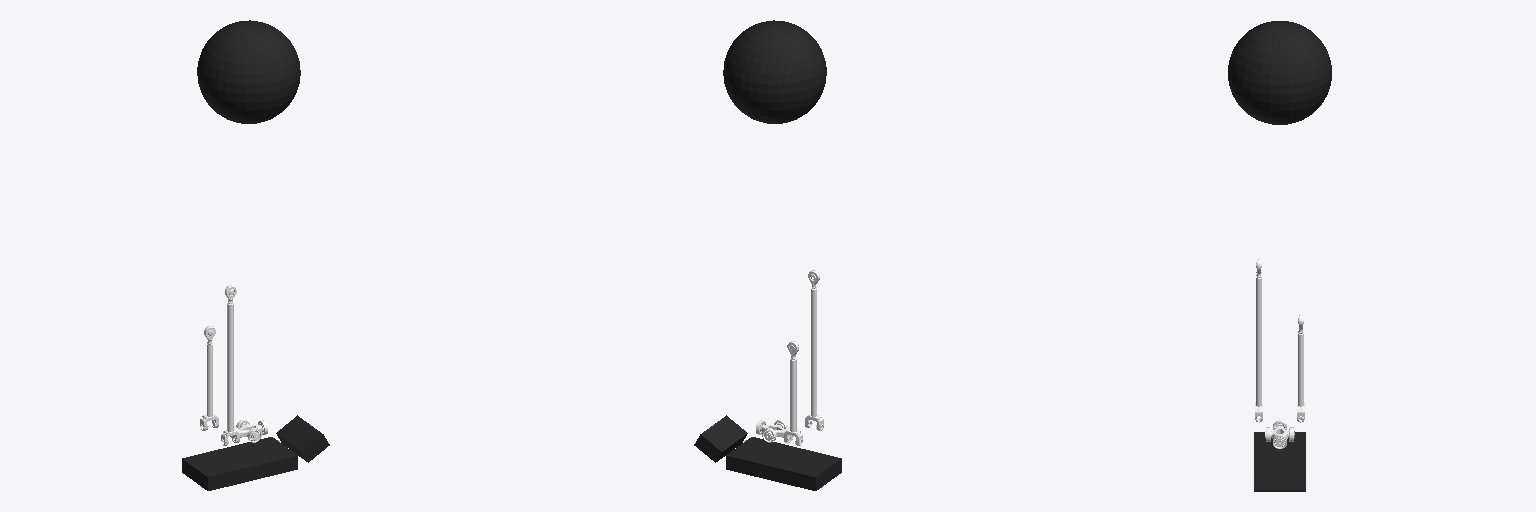
URDF robot description (DHAL):
<robot name="DHAL" xmlns:xacro="http://www.ros.org/wiki/xacro">
    <!--
      CALIBRATION WORKING COPY (2026-09-08) (NOT FINAL).
      Confirmed data are applied as they are validated. Provisional assumptions are
      marked locally. The uploaded Hop2_Parallel_20260820.zip remains untouched.
    -->
    <material name="black">
        <color rgba="0.0 0.0 0.0 1.0"/>
    </material>
    <material name="blue">
        <color rgba="0.0 0.0 0.8 1.0"/>
    </material>
    <material name="green">
        <color rgba="0.0 0.8 0.0 1.0"/>
    </material>
    <material name="grey">
        <color rgba="0.2 0.2 0.2 1.0"/>
    </material>
    <material name="silver">
        <color rgba="0.913725490196 0.913725490196 0.847058823529 1.0"/>
    </material>
    <material name="orange">
        <color rgba="1.0 0.423529411765 0.0392156862745 1.0"/>
    </material>
    <material name="brown">
        <color rgba="0.870588235294 0.811764705882 0.764705882353 1.0"/>
    </material>
    <material name="red">
        <color rgba="0.8 0.0 0.0 1.0"/>
    </material>
    <material name="white">
        <color rgba="1.0 1.0 1.0 1.0"/>
    </material>

    <link name="Thigh">
        <visual>
            <origin rpy="0 0 0" xyz="0 0 0"/>
            <geometry>
                <mesh filename="URDF_Thigh_with_Link_verHopping1_Simplified.dae" scale="1 1 1"/>
            </geometry>
            <material name="grey"/>
        </visual>
        <collision>
            <origin rpy="0 0 0" xyz="0 -0.04 -0.14"/>
            <geometry>
                <box size="0.1 0.02 0.26"/>
            </geometry>
        </collision>
        <collision>
            <origin rpy="0 0 0" xyz="0 0.06 -0.14"/>
            <geometry>
                <box size="0.1 0.06 0.26"/>
            </geometry>
        </collision>
        <inertial>
            <origin rpy="0 0 0" xyz="0.001815 0.027609 -0.115412"/>
            <mass value="4.29025"/>
            <inertia ixx="0.077120" ixy="-0.000030" ixz="-0.001298" iyy="0.076206" iyz="-0.012889" izz="0.014845"/>
        </inertial>
    </link>

    <joint name="00_knee_joint" type="revolute">
        <origin rpy="0 0 0" xyz="0 0 -0.2523"/>
        <parent link="Thigh"/>
        <child link="Calf"/>
        <axis xyz="0 1 0"/>
        <!-- PROVISIONAL D151 output-axis equivalent inertia:
             motor/sun/encoder ring and two sun-locking LPSTAG pins at 20x;
             carrier, four carrier-locking LPSTAG pins, and eight carrier-fixed
             fasteners (4x M3_10 + 4x M4_12) at 5x;
             four compound planets (26.4 mm orbit at 5x and spin at -10x),
             the clean three-part output group and two output-fixed LPSTAG pins
             at 1x, and the exact orbital term of eight MTA planet bearings at 5x.
             Bearing race/cage/ball self-rotation and remaining output-side fasteners
             remain pending; the mixed 201.80 g 4-C selection is excluded. -->
        <dynamics rotor_inertia="0.37825873418" damping="0" friction="0"/>
        <!-- PROVISIONAL measured motor-side envelope: the static test reached
             27.5166 N*m (mean absolute CW/CCW endpoint) at 110 A and stopped
             before the true peak. effort=550.3 N*m uses 27.5166*20 without
             gearbox-efficiency derating;
             velocity=10.11 rad/s retains the 65.1 V estimate pending speed/Kv data. -->
        <limit effort="550.3" velocity="10.11" lower="0" upper="2.26893"/>
    </joint>
    <link name="Calf">
        <visual>
            <origin rpy="0 0 0" xyz="0 0 0"/>
            <geometry>
                <mesh filename="URDF_Calf_verHopping1_Simplified.dae" scale="1 1 1"/>
            </geometry>
            <material name="grey"/>
        </visual>
        <collision>
            <origin rpy="0 0 0" xyz="0 0 -0.205"/>
            <geometry>
                <box size="0.1 0.048 0.32"/>
            </geometry>
        </collision>
        <!-- PROVISIONAL CAD occurrence boundary: COM-centered SolidWorks tensor,
             converted from positive-product notation into the URDF link frame. -->
        <inertial>
            <origin rpy="0 0 0" xyz="0.003950 0.000010 -0.144090"/>
            <mass value="3.419690"/>
            <inertia ixx="0.03144104616" ixy="-0.00000152892" ixz="-0.00075255670" iyy="0.03453173442" iyz="0.00085899137" izz="0.00474369522"/>
        </inertial>
    </link>

    <joint name="01_ankle_pitch_joint" type="revolute">
        <origin rpy="0 0 0" xyz="0 0 -0.41"/>
        <parent link="Calf"/>
        <child link="Universal"/>
        <axis xyz="0 1 0"/>
        <limit lower="-0.872665" upper="0.698132"/>
    </joint>
    <link name="Universal">
        <visual>
            <origin rpy="0 0 0" xyz="0 0 0"/>
            <geometry>
                <mesh filename="URDF_Universal_verHopping1_Simplified.dae" scale="1 1 1"/>
            </geometry>
            <material name="white"/>
        </visual>
        <!-- CONFIRMED four-bearing Universal assembly. SolidWorks default X/Y
             map to URDF Y/X; the old ixx=0.00048 was a decimal-place error. -->
        <inertial>
            <origin rpy="0 0 0" xyz="0 0 0"/>
            <mass value="0.209567"/>
            <inertia ixx="0.00004785009" ixy="0" ixz="0" iyy="0.00008903210" iyz="0" izz="0.00012365773"/>
        </inertial>
    </link>

    <joint name="02_ankle_roll_joint" type="revolute">
        <origin rpy="0 0 0" xyz="0 0 0"/>
        <parent link="Universal"/>
        <child link="Foot"/>
        <axis xyz="1 0 0"/>
        <limit lower="-0.523599" upper="0.523599"/>
    </joint>
    <link name="Foot">
<!--        <visual>-->
<!--            <origin rpy="0 0 0" xyz="0 0 0"/>-->
<!--            <geometry>-->
<!--                <mesh filename="URDF_Foot_verHopping1_Simplified.dae" scale="1 1 1"/>-->
<!--            </geometry>-->
<!--            <material name="grey"/>-->
<!--        </visual>-->
<!--        <collision>-->
<!--            <origin rpy="0 0 0" xyz="0 0 -0.065"/>-->
<!--            <geometry>-->
<!--&lt;!&ndash;                <box size="0.24 0.08 0.03"/>&ndash;&gt;-->
<!--                <box size="0.265 0.10 0.03"/>-->
<!--            </geometry>-->
<!--        </collision>-->
<!--        <inertial>-->
<!--            <origin rpy="0 0 0" xyz="-0.014103 -0.0000 -0.044208"/>-->
<!--&lt;!&ndash;            <mass value="0.899532"/>&ndash;&gt;-->
<!--            <mass value="1.0"/>-->
<!--&lt;!&ndash;            <inertia ixx="0.002914" ixy="0.000001" ixz="0.000081" iyy="0.005654" iyz="0" izz="0.003715"/>&ndash;&gt;-->
<!--            <inertia ixx="0.0032" ixy="0.000001" ixz="0.0001" iyy="0.005654" iyz="0" izz="0.0040"/>-->
<!--        </inertial>-->
        <visual>
            <origin rpy="0 0 0" xyz="-0.02 0 -0.065"/>
            <geometry>
                <box size="0.20 0.1 0.03"/>
            </geometry>
            <material name="grey"/>
        </visual>
        <visual>
            <origin rpy="0 -0.5 0" xyz="0.12 0 -0.045"/>
            <geometry>
                <box size="0.055 0.1 0.03"/>
            </geometry>
            <material name="grey"/>
        </visual>
        <collision>
            <origin rpy="0 0 0" xyz="-0.02 0 -0.065"/>
            <geometry>
                <box size="0.20 0.1 0.03"/>
            </geometry>
        </collision>
        <collision>
            <origin rpy="0 -0.5 0" xyz="0.12 0 -0.045"/>
            <geometry>
                <box size="0.055 0.1 0.03"/>
            </geometry>
        </collision>
        <!-- PROVISIONAL physical/CAD hybrid: measured foot_2+8 bolts = 0.837 kg;
             unmeasured rigid parts retain CAD mass/distribution. -->
        <inertial>
            <origin rpy="0 0 0" xyz="0.00320582 -0.00032194 -0.03596666"/>
            <mass value="1.041857"/>
            <inertia ixx="0.00139245073" ixy="-0.00001843666" ixz="-0.00021646787" iyy="0.00564702944" iyz="-0.00001139993" izz="0.00584029057"/>
        </inertial>
    </link>

    <joint name="03_left_ankle_link_pitch_joint" type="continuous">
        <origin rpy="0 0 0" xyz="-0.0640125 0.04 0.0112871"/>
        <parent link="Foot"/>
        <child link="Left_Dice"/>
        <axis xyz="0 1 0"/>
    </joint>
    <link name="Left_Dice">
        <visual>
            <origin rpy="0 0 0" xyz="0 0 0"/>
            <geometry>
                <mesh filename="URDF_Calf_Link_Dice_verHopping1_Simplified.dae" scale="1 1 1"/>
            </geometry>
            <material name="white"/>
        </visual>
        <inertial>
            <origin rpy="0 0 0" xyz="0 0 0"/>
            <mass value="0.037914"/>
            <inertia ixx="0.000002" ixy="0" ixz="0" iyy="0.000004" iyz="0" izz="0.000004"/>
        </inertial>
    </link>

    <joint name="04_left_ankle_link_roll_joint" type="continuous">
        <origin rpy="0 0 0" xyz="0 0 0"/>
        <parent link="Left_Dice"/>
        <child link="Left_Ankle_Link"/>
        <axis xyz="1 0 0"/>
    </joint>
    <link name="Left_Ankle_Link">
        <visual>
            <origin rpy="0 0 0" xyz="0 0 0"/>
            <geometry>
                <mesh filename="URDF_Calf_Link_S_verHopping1_Simplified.dae" scale="1 1 1"/>
            </geometry>
            <material name="white"/>
        </visual>
        <inertial>
            <origin rpy="0 0 0" xyz="0.000021 0 0.083422"/>
            <mass value="0.134342"/>
            <inertia ixx="0.001708" ixy="0" ixz="0" iyy="0.001714" iyz="0" izz="0.000010"/>
        </inertial>
    </link>

    <joint name="05_right_ankle_link_pitch_joint" type="continuous">
        <origin rpy="0 0 0" xyz="-0.0640125 -0.04 0.0112871"/>
        <parent link="Foot"/>
        <child link="Right_Dice"/>
        <axis xyz="0 1 0"/>
    </joint>
    <link name="Right_Dice">
        <visual>
            <origin rpy="0 0 0" xyz="0 0 0"/>
            <geometry>
                <mesh filename="URDF_Calf_Link_Dice_verHopping1_Simplified.dae" scale="1 1 1"/>
            </geometry>
            <material name="white"/>
        </visual>
        <inertial>
            <origin rpy="0 0 0" xyz="0 0 0"/>
            <mass value="0.037914"/>
            <inertia ixx="0.000002" ixy="0" ixz="0" iyy="0.000004" iyz="0" izz="0.000004"/>
        </inertial>
    </link>

    <joint name="06_right_ankle_link_roll_joint" type="continuous">
        <origin rpy="0 0 0" xyz="0 0 0"/>
        <parent link="Right_Dice"/>
        <child link="Right_Ankle_Link"/>
        <axis xyz="1 0 0"/>
    </joint>
    <link name="Right_Ankle_Link">
        <visual>
            <origin rpy="0 0 0" xyz="0 0 0"/>
            <geometry>
                <mesh filename="URDF_Calf_Link_L_verHopping1_Simplified.dae" scale="1 1 1"/>
            </geometry>
            <material name="white"/>
        </visual>
        <inertial>
            <origin rpy="0 0 0" xyz="0.000017 0 0.137377"/>
            <mass value="0.170375"/>
            <inertia ixx="0.005596" ixy="0" ixz="0" iyy="0.005602" iyz="0" izz="0.000011"/>
        </inertial>
    </link>

    <joint name="07_left_ankle_link_input_joint" type="continuous">
        <origin rpy="0 0 0" xyz="0 0.0255 -0.205"/>
        <parent link="Calf"/>
        <child link="Left_Ankle_Link_Input"/>
        <axis xyz="0 1 0"/>
        <!-- CONFIRMED CAD-equivalent 5.2:1 drivetrain: motor/sun/encoder ring,
             4 planets, carrier/output, 4x M3_8 and 6x M3_6 output-fixed bolts.
             Internal bearing-race rotation remains unmodeled. -->
        <dynamics rotor_inertia="0.00611686196" damping="0" friction="0"/>
        <!-- PROVISIONAL measured motor-side envelope: the static test reached
             approximately 16.52 N*m (mean absolute endpoint) at 60 A; the true
             peak was not established. effort=85.9 N*m uses 16.52*5.2 without
             gearbox-efficiency derating;
             velocity=18.3 rad/s retains the 65.1 V estimate pending speed/Kv data. -->
        <limit effort="85.9" velocity="18.3"/>
    </joint>
    <link name="Left_Ankle_Link_Input">
        <visual>
            <origin rpy="0 0 0" xyz="0 0 0"/>
            <geometry>
                <mesh filename="URDF_Calf_Link_Input_verHopping1_Simplified.dae" scale="1 1 1"/>
            </geometry>
            <material name="green"/>
        </visual>
        <inertial>
            <origin rpy="0 0 0" xyz="0.024120 0.013430 -0.001640"/>
            <mass value="0.118360"/>
            <inertia ixx="0.00002370602" ixy="-0.00000732881" ixz="-0.00000462551" iyy="0.00009080315" iyz="0.00000161882" izz="0.00008559930"/>
        </inertial>
    </link>

    <joint name="08_right_ankle_link_input_joint" type="continuous">
        <origin rpy="0 0 0" xyz="0 -0.0255 -0.09"/>
        <parent link="Calf"/>
        <child link="Right_Ankle_Link_Input"/>
        <axis xyz="0 1 0"/>
        <!-- CONFIRMED CAD-equivalent 5.2:1 drivetrain: motor/sun/encoder ring,
             4 planets, carrier/output, 4x M3_8 and 6x M3_6 output-fixed bolts.
             Internal bearing-race rotation remains unmodeled. -->
        <dynamics rotor_inertia="0.00611686196" damping="0" friction="0"/>
        <!-- PROVISIONAL measured motor-side envelope: the static test reached
             approximately 16.52 N*m (mean absolute endpoint) at 60 A; the true
             peak was not established. effort=85.9 N*m uses 16.52*5.2 without
             gearbox-efficiency derating;
             velocity=18.3 rad/s retains the 65.1 V estimate pending speed/Kv data. -->
        <limit effort="85.9" velocity="18.3"/>
    </joint>
    <link name="Right_Ankle_Link_Input">
        <visual>
            <origin rpy="0 0 0" xyz="0 0 0"/>
            <geometry>
                <mesh filename="URDF_Calf_Link_Input_mir_verHopping1_Simplified.dae" scale="1 1 1"/>
            </geometry>
            <material name="green"/>
        </visual>
        <inertial>
            <origin rpy="0 0 0" xyz="0.024120 -0.013430 -0.001640"/>
            <mass value="0.118360"/>
            <inertia ixx="0.00002370594" ixy="0.00000732874" ixz="-0.00000462550" iyy="0.00009080295" iyz="-0.00000161879" izz="0.00008559905"/>
        </inertial>
    </link>

    <joint name="09_temp_weight_joint" type="fixed">
        <origin rpy="0 0 0" xyz="0 0 0.1"/>
        <parent link="Thigh"/>
        <child link="Temp_Weight"/>
    </joint>
    <link name="Temp_Weight">
        <visual>
            <origin rpy="0 0 0" xyz="0 0 0"/>
            <geometry>
                <sphere radius="0.1"/>
            </geometry>
            <material name="grey"/>
        </visual>
        <collision>
            <origin rpy="0 0 0" xyz="0 0 0"/>
            <geometry>
                <sphere radius="0.1"/>
            </geometry>
        </collision>
        <!-- PROVISIONAL three-group physical calibration in URDF-aligned CS1:
             dumbbells stay at 3.000 kg; 0.063884 kg CAD hardware stays unchanged;
             body_1+body_2 is scaled 0.110000 -> 0.316116 kg to match 3.380 kg. -->
        <inertial>
            <origin rpy="0 0 0" xyz="0.000068979276 0 0.045106208574"/>
            <mass value="3.380000"/>
            <inertia ixx="0.004181097751" ixy="0" ixz="0.000009332820" iyy="0.004174563808" iyz="0" izz="0.006073407112"/>
        </inertial>
    </link>

        <!-- Active calibrated closure: measured center-to-center lengths 202 mm / 320 mm.
             Forward-kinematics pin residual after rounding is below 1e-9 m. -->
    <constraints nominal_config="0.0, 0.0, 0.8, 0.99619470, 0.0, -0.08715574, 0.0,  0.349066, 0.0, 0.0,  0.64057070, -0.00247525, 0.40891126, 0.00156250, 0.51048313, 0.23438469">
        <pin body1="Left_Ankle_Link_Input" body2="Left_Ankle_Link" anchor="0.065 0.015 0.0"/>
        <pin body1="Right_Ankle_Link_Input" body2="Right_Ankle_Link" anchor="0.065 -0.015 0.0"/>
    </constraints>

</robot>

--- Render facts (derived) ---
The picture shows the robot from 3 angles, left to right: view 1: azimuth 30°, elevation 25°; view 2: azimuth 150°, elevation 25°; view 3: azimuth 270°, elevation 25°; orthographic projection.
Model DHAL with 11 links and 10 joints (3 revolute, 6 continuous, 1 fixed), rooted at Thigh, posed every joint at zero.
Links seen in each view (by area): view 1: Temp_Weight, Foot, Right_Ankle_Link, Left_Ankle_Link; view 2: Temp_Weight, Foot, Right_Ankle_Link, Left_Ankle_Link; view 3: Temp_Weight, Foot, Right_Ankle_Link, Left_Ankle_Link, Universal.
Link boxes in pixels (x1=…): Temp_Weight: x1=197, y1=20, x2=300, y2=123; Foot: x1=182, y1=415, x2=329, y2=490; Right_Ankle_Link: x1=221, y1=285, x2=239, y2=445; Left_Ankle_Link: x1=200, y1=326, x2=218, y2=430; Temp_Weight: x1=723, y1=20, x2=826, y2=123; Foot: x1=694, y1=415, x2=841, y2=490; Right_Ankle_Link: x1=805, y1=270, x2=823, y2=430; Left_Ankle_Link: x1=784, y1=341, x2=802, y2=445; Temp_Weight: x1=1228, y1=21, x2=1331, y2=124; Foot: x1=1254, y1=432, x2=1305, y2=491; Right_Ankle_Link: x1=1255, y1=259, x2=1262, y2=422; Left_Ankle_Link: x1=1297, y1=315, x2=1304, y2=422; Universal: x1=1265, y1=420, x2=1294, y2=448.
Size in the robot's own frame: 0.2713 by 0.2 by 0.9423 metres.
3 mesh visuals loaded from 8 distinct referenced files (3 Collada DAE); not drawn: 6 (reference not matched to a file when rendering).
